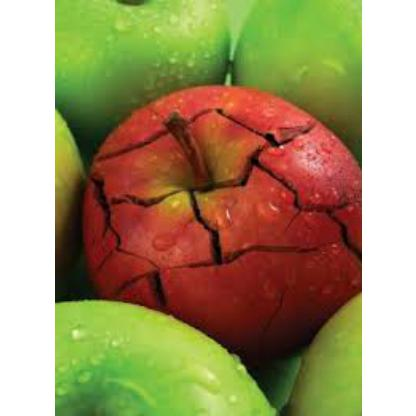apple: (82, 76, 346, 328)
